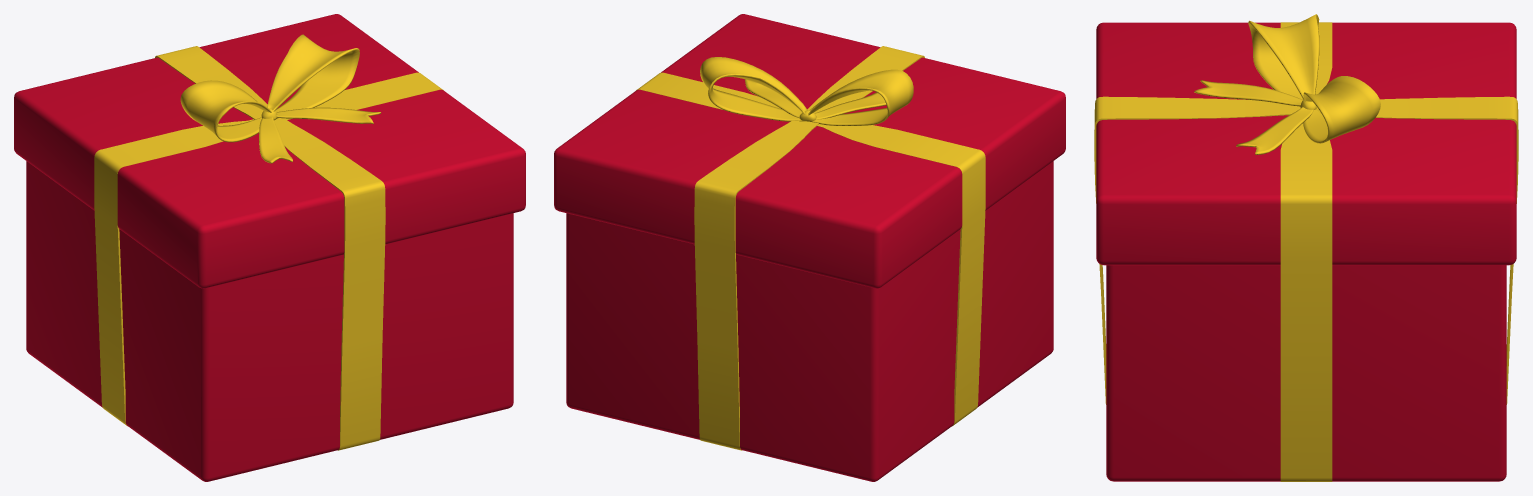
File: gift_box.glb
The picture shows the model from 3 angles, left to right: view 1: azimuth 30°, elevation 25°; view 2: azimuth 150°, elevation 25°; view 3: azimuth 270°, elevation 25°; orthographic projection. The views are drawn at different scales.
Visible parts, largest first — view 1: Object_2, Object_3; view 2: Object_2, Object_3; view 3: Object_2, Object_3.
Part boxes in pixels (left/top/right/bottom): Object_2: left=14, top=14, right=525, bottom=481; Object_3: left=94, top=34, right=443, bottom=450; Object_2: left=554, top=14, right=1065, bottom=481; Object_3: left=636, top=46, right=985, bottom=450; Object_2: left=1096, top=22, right=1516, bottom=481; Object_3: left=1094, top=14, right=1518, bottom=481.
Bounding box in the file's own units: 2.1 × 1.92 × 2.12.
